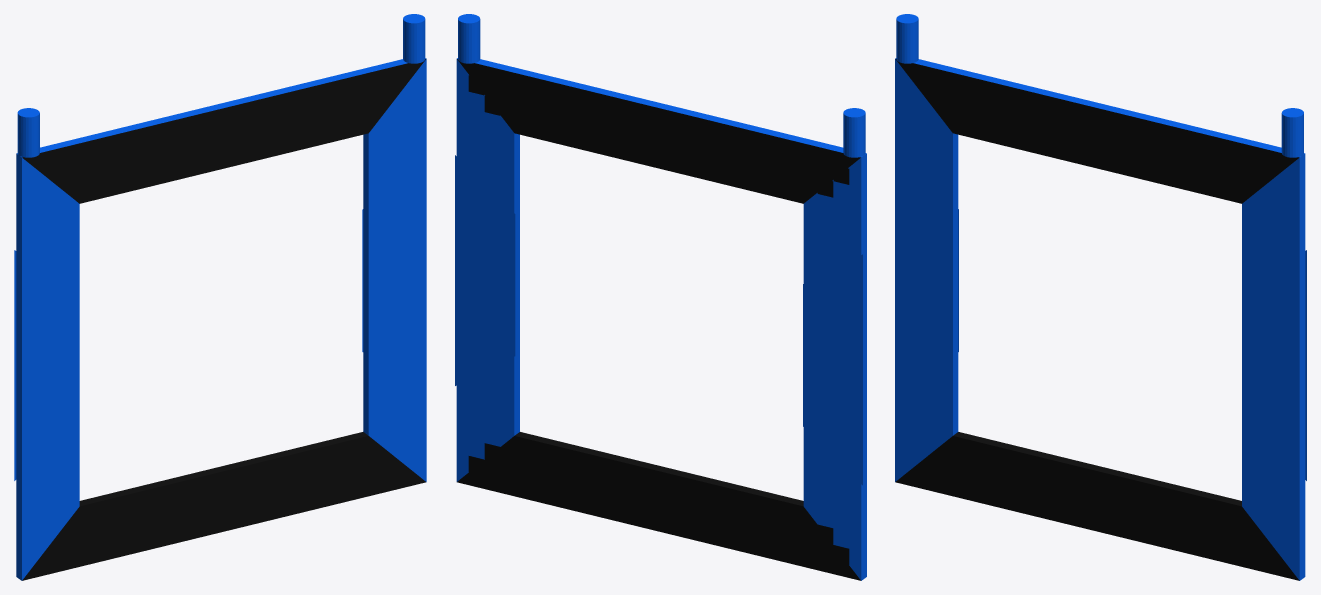
Rendered from gate.obj.
3 renders of one model, left to right at view 1: azimuth 30°, elevation 25°; view 2: azimuth 150°, elevation 25°; view 3: azimuth 330°, elevation 25°, orthographic.
Size of the model in its own units: 212 by 230 by 10.
